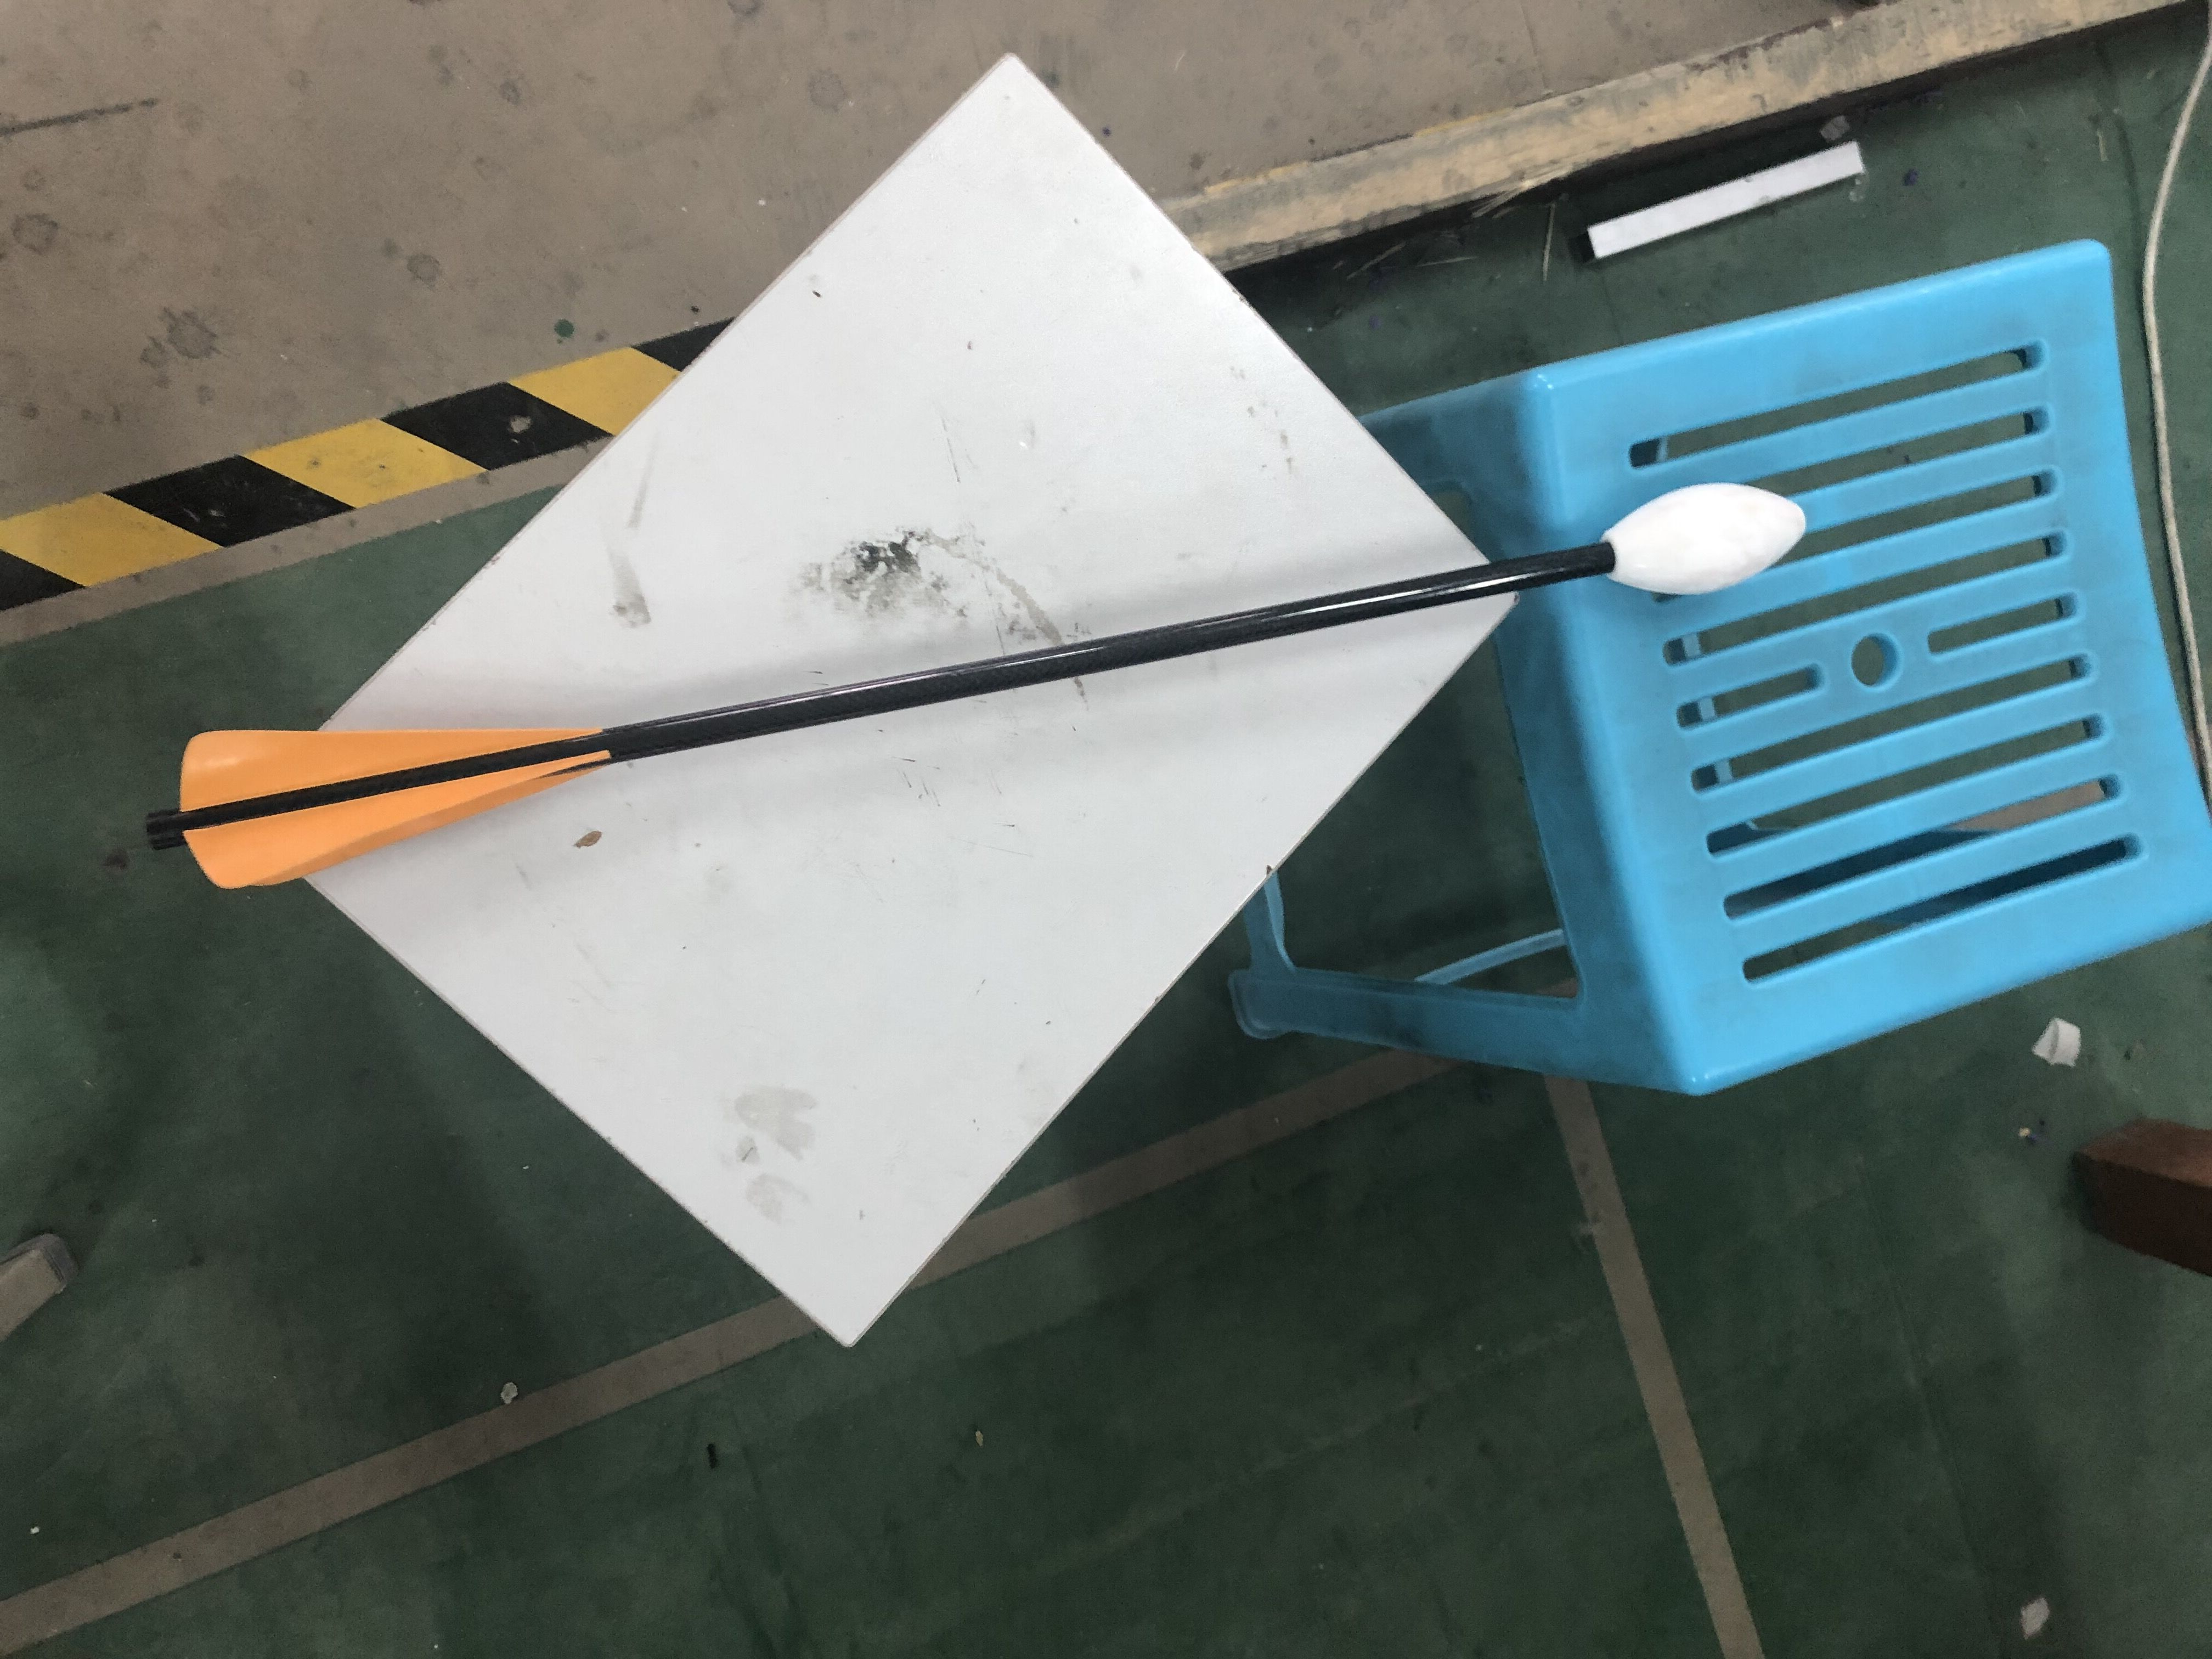arrow: (139, 479, 1811, 897)
arrowFront: (1602, 477, 1810, 598)
